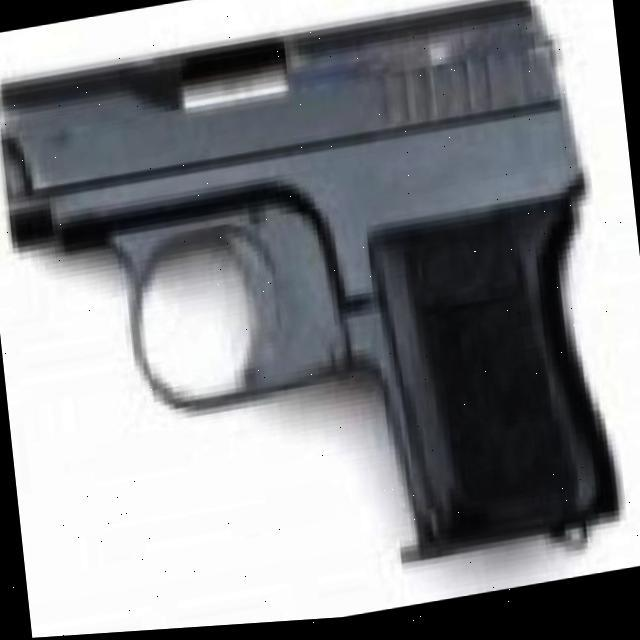gun: (0, 0, 616, 631)
